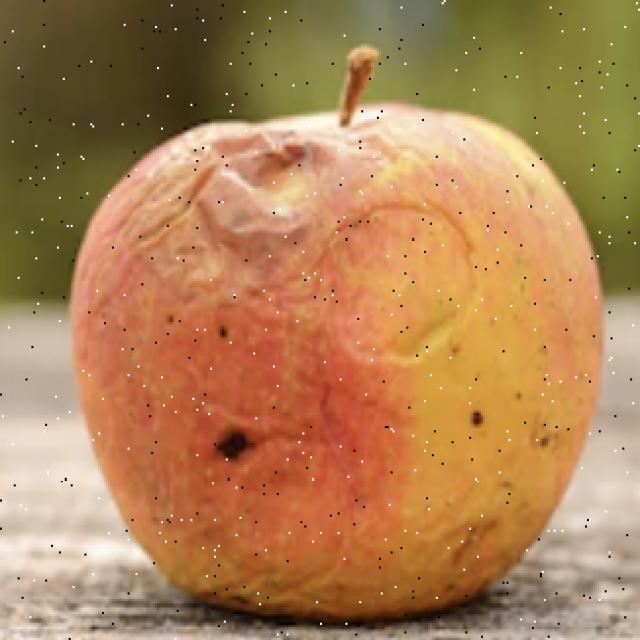Rotten: (67, 90, 583, 618)
